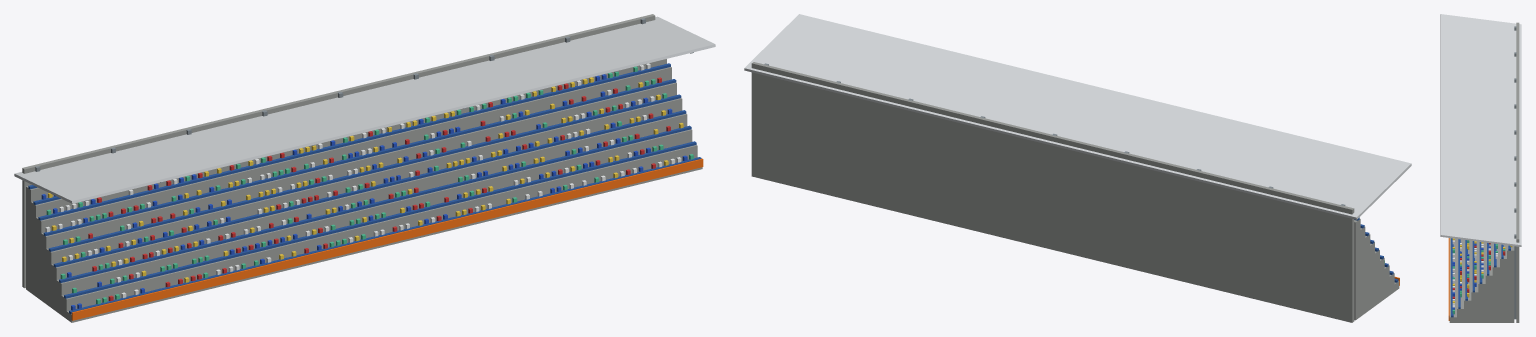
The model's file is grandstand.glb.
3 views of the same model, side by side, from view 1: azimuth 30°, elevation 25°; view 2: azimuth 150°, elevation 25°; view 3: azimuth 270°, elevation 25° (orthographic). The views are drawn at different scales.
Visible parts, largest first — view 1: Cube.001; view 2: Cube.001; view 3: Cube.001.
Part boxes in pixels (<box>): Cube.001: <box>14,14,715,322</box>; Cube.001: <box>744,14,1411,322</box>; Cube.001: <box>1440,14,1521,322</box>.
Bounding box in the file's own units: 102 × 19.41 × 15.9.
